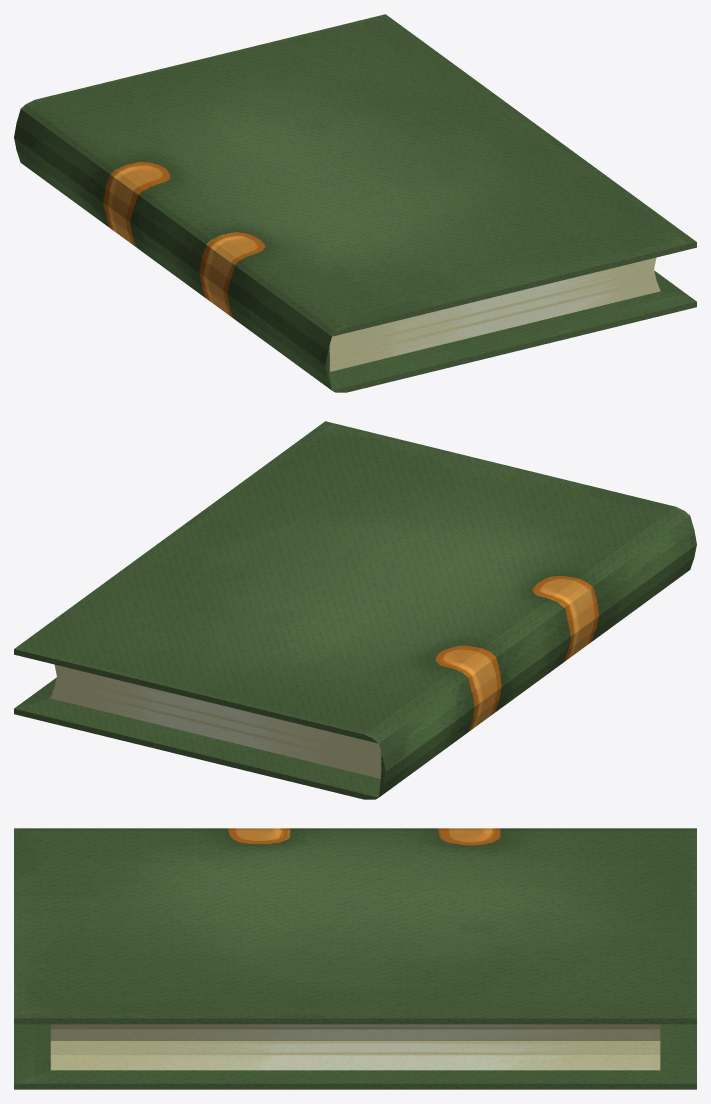
Rendered from book_03.fbx.
The picture shows the model from 3 angles, top to bottom: view 1: azimuth 30°, elevation 25°; view 2: azimuth 150°, elevation 25°; view 3: azimuth 270°, elevation 25°; orthographic projection. The views are drawn at different scales.
Visible parts, largest first — view 1: Book_03; view 2: Book_03; view 3: Book_03.
Boxes of the visible parts, <box> form: Book_03: <box>14,14,696,392</box>; Book_03: <box>14,421,696,799</box>; Book_03: <box>14,828,696,1089</box>.
Bounding box in the file's own units: 224 × 37.49 × 325.
